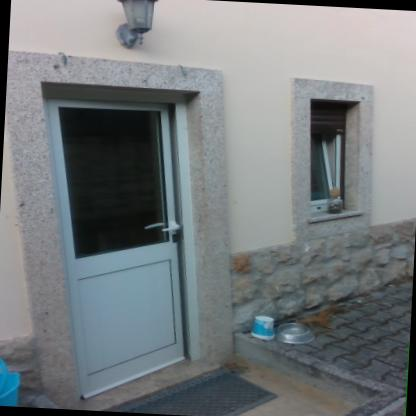closed: (17, 68, 221, 402)
